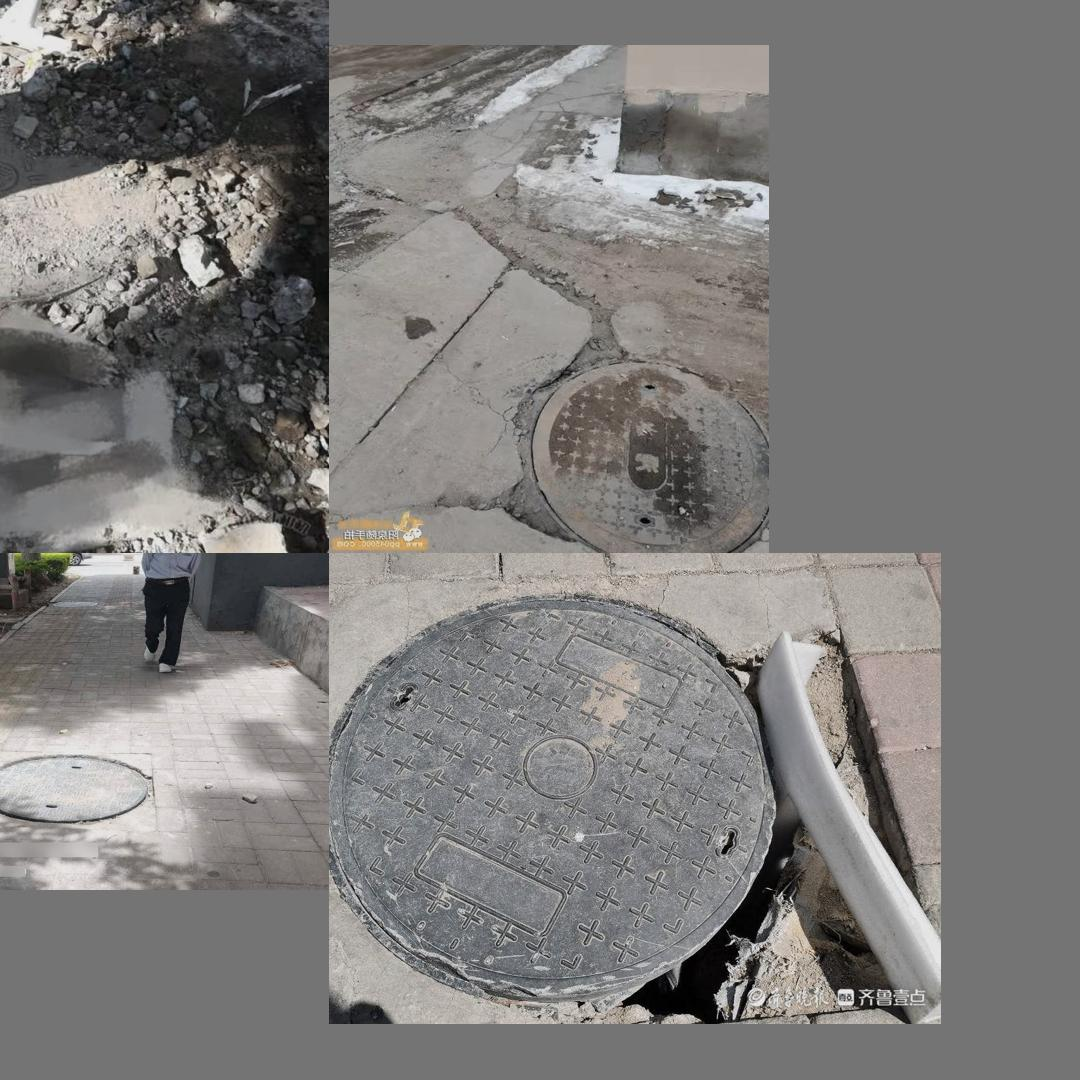circle: (339, 596, 893, 1010), (454, 345, 763, 548), (0, 85, 218, 348), (0, 754, 152, 825)
